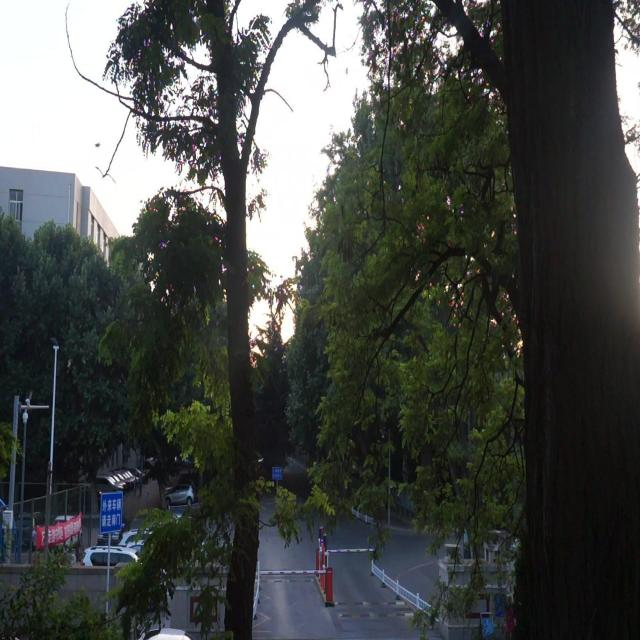UAV: (94, 141, 102, 149)
